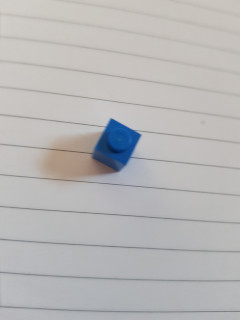1x1 blue: (92, 118, 142, 172)
